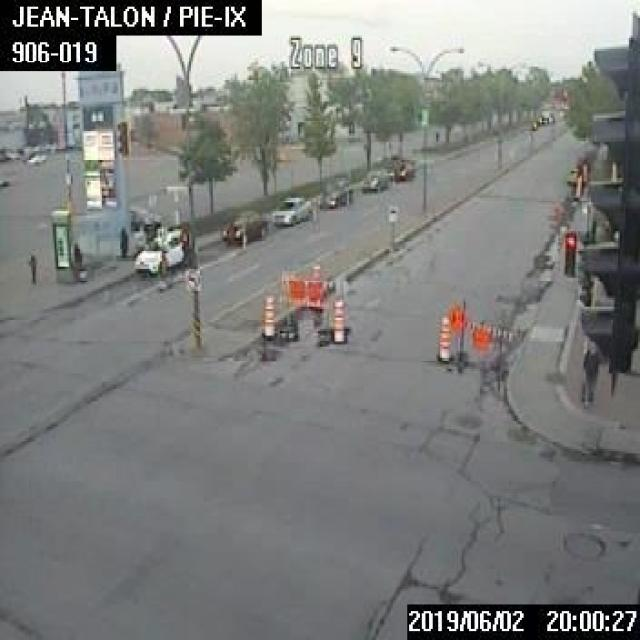construction: (446, 296, 520, 371), (274, 262, 339, 345), (331, 298, 347, 343), (435, 315, 450, 362), (260, 294, 276, 338)
pedestrian: (578, 338, 598, 404), (69, 240, 82, 280), (26, 251, 35, 282), (120, 225, 128, 258)
vehicle: (131, 226, 180, 278), (222, 209, 266, 245), (270, 194, 311, 225), (317, 175, 352, 206), (359, 166, 392, 190), (384, 156, 414, 178), (565, 166, 581, 184)
